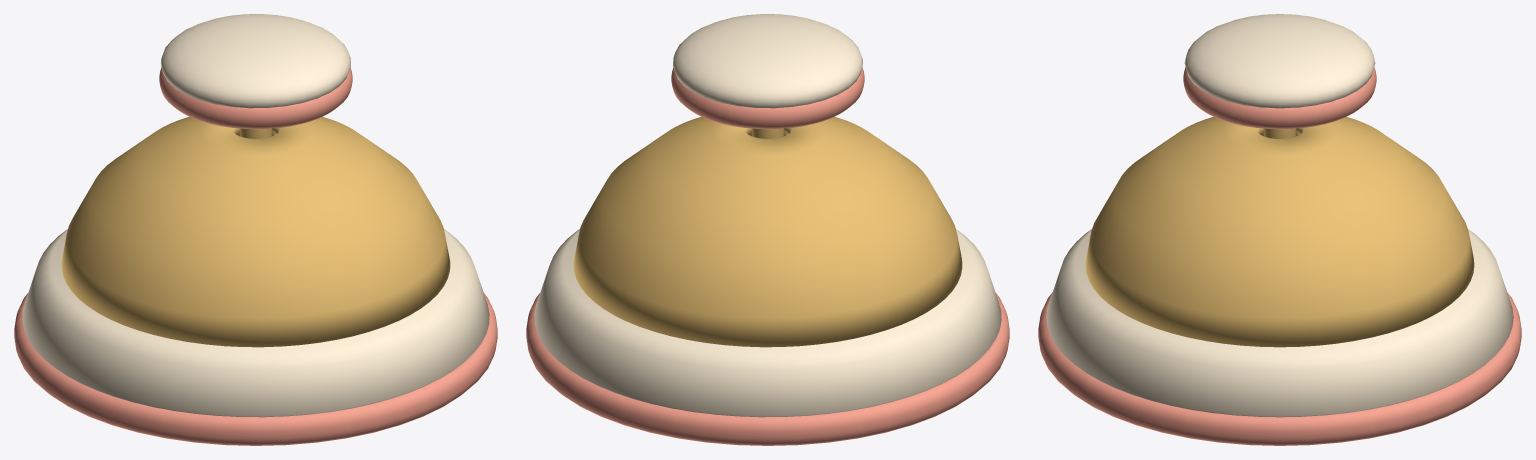
Rendered from bell.glb.
3 views of the same model, side by side, from view 1: azimuth 30°, elevation 25°; view 2: azimuth 150°, elevation 25°; view 3: azimuth 270°, elevation 25° (orthographic).
Parts seen in each view (by area): view 1: bell_shell, bell_base, bell_button, bell_base_foot; view 2: bell_shell, bell_base, bell_button, bell_base_foot; view 3: bell_shell, bell_base, bell_button, bell_base_foot.
Boxes of the visible parts, x1,y1,x2,y2 form: bell_shell: [61, 116, 450, 347]; bell_base: [22, 229, 489, 417]; bell_button: [159, 14, 352, 138]; bell_base_foot: [14, 293, 497, 445]; bell_shell: [573, 116, 962, 347]; bell_base: [534, 229, 1001, 417]; bell_button: [671, 14, 864, 138]; bell_base_foot: [526, 293, 1009, 445]; bell_shell: [1085, 117, 1474, 347]; bell_base: [1046, 229, 1513, 417]; bell_button: [1183, 14, 1376, 138]; bell_base_foot: [1038, 292, 1521, 445].
Bounding box in the file's own units: 0.36 × 0.257 × 0.36.
